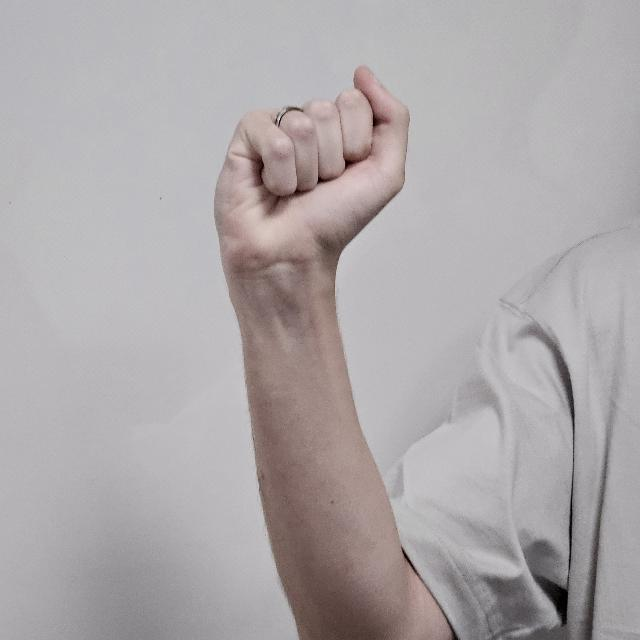Quadro: (214, 63, 410, 280)
